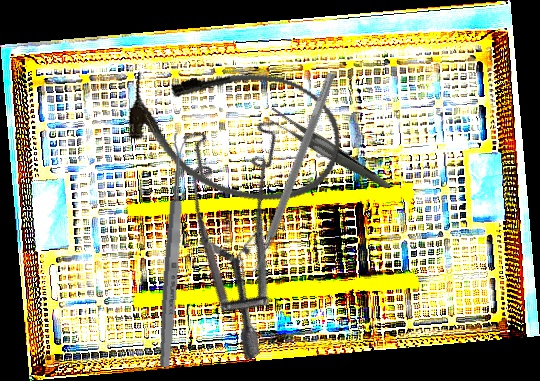Cannula: (114, 43, 354, 219)
Dressing Forceps: (262, 81, 391, 220)
Spatula Surgical: (244, 68, 336, 279)
Speculum: (125, 91, 376, 362)
Surgical Spoon: (156, 132, 190, 368)
